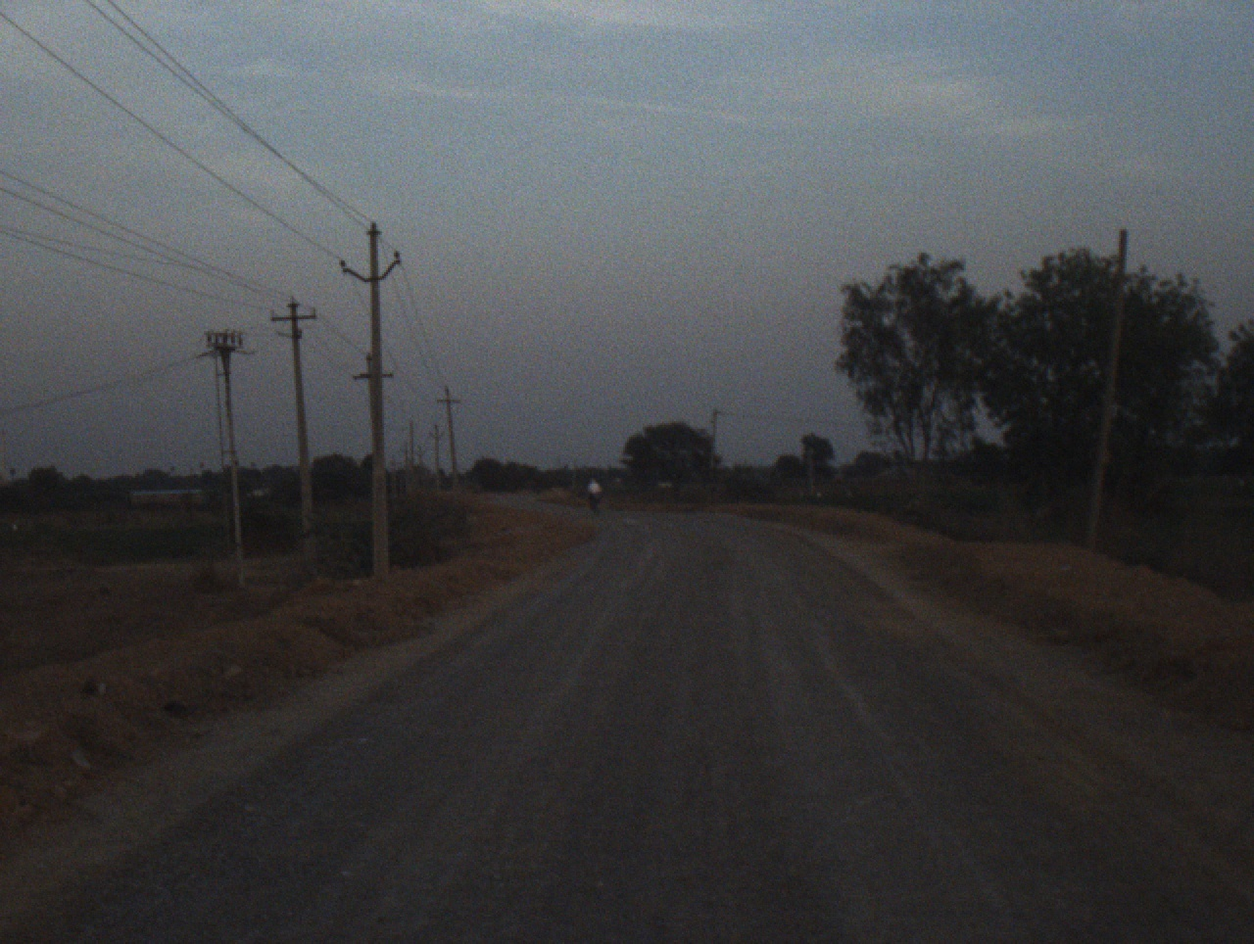bicycle: (592, 490, 598, 508)
rider: (587, 470, 601, 502)
